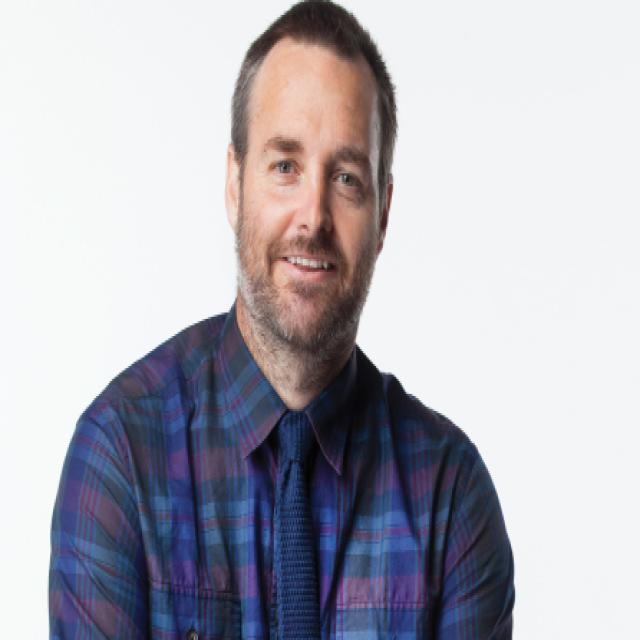human: (43, 3, 521, 640)
